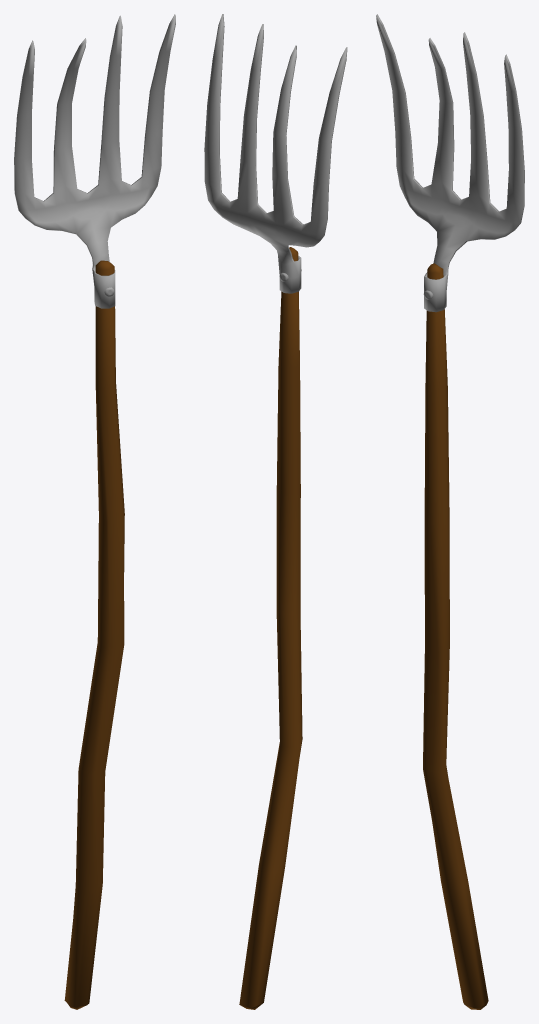
Rendered from Pitchfork_1.fbx.
3 renders of one model, left to right at view 1: azimuth 30°, elevation 25°; view 2: azimuth 150°, elevation 25°; view 3: azimuth 330°, elevation 25°, orthographic. The views are drawn at different scales.
Visible parts, largest first — view 1: Pitchfork_2_Handle; view 2: Pitchfork_2_Handle; view 3: Pitchfork_2_Handle.
Part boxes in pixels (x1=…): Pitchfork_2_Handle: x1=14, y1=14, x2=175, y2=1009; Pitchfork_2_Handle: x1=204, y1=14, x2=347, y2=1009; Pitchfork_2_Handle: x1=376, y1=14, x2=524, y2=1009.
Size of the model in its own units: 12.38 by 140 by 20.37.
